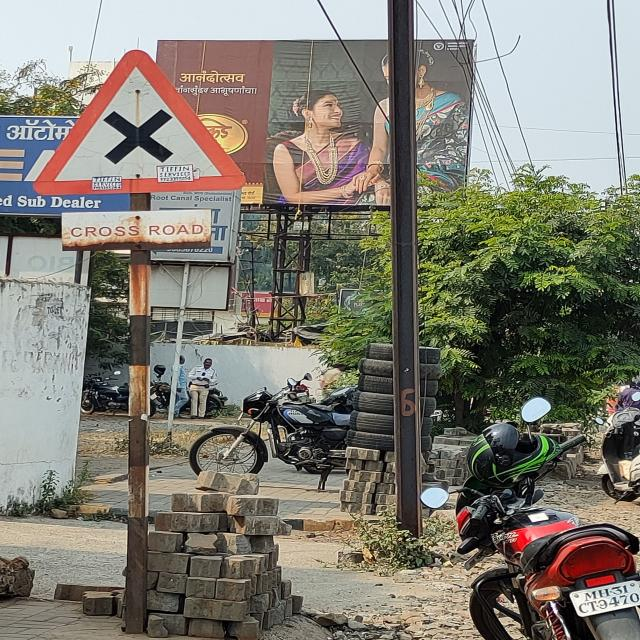CROSS_ROAD: (30, 48, 245, 198)
